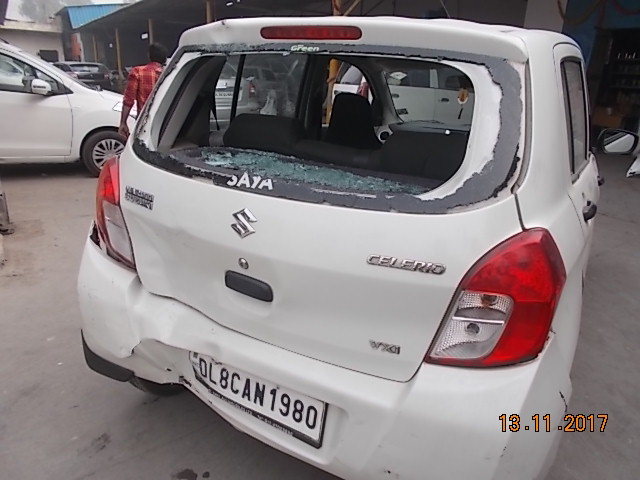Dent: (135, 322, 210, 379)
